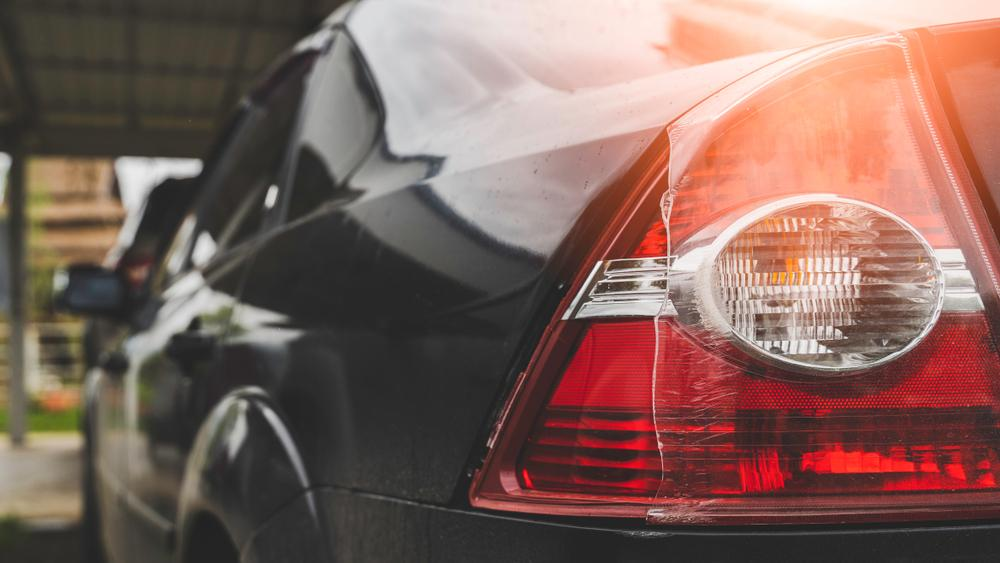lamp broken: (461, 32, 1000, 528)
